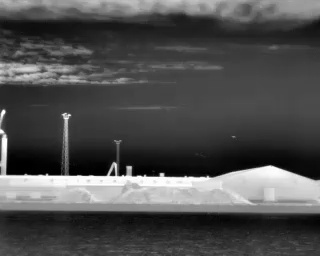BIRD: (230, 132, 238, 141)
